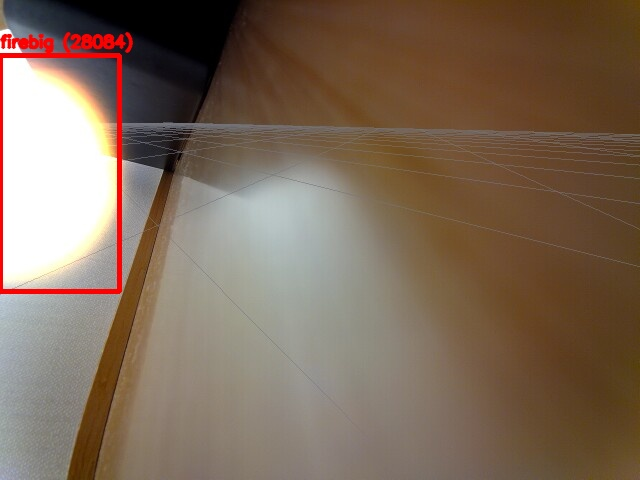firebig: (0, 55, 119, 291)
